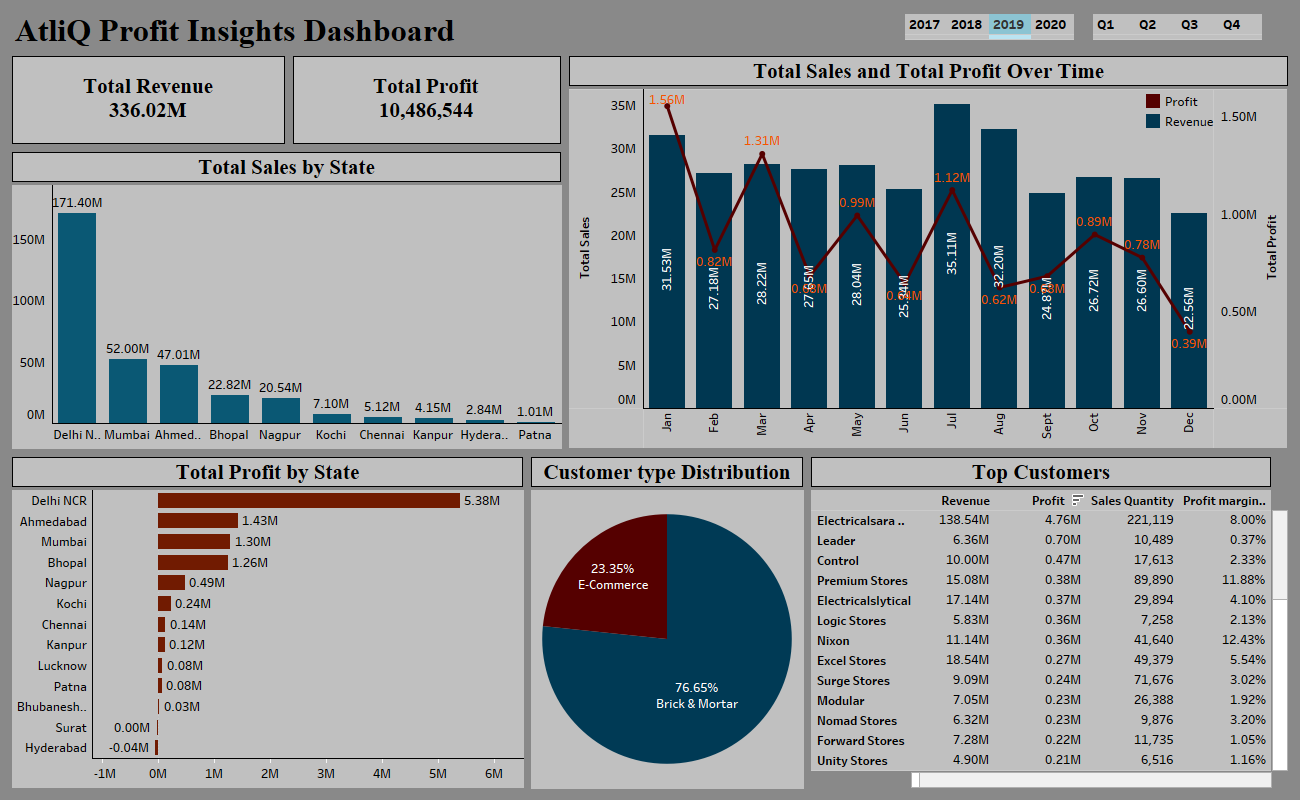

Layout of this report page (visuals, bound fields, positions):
{"tool":"tableau","page":{"name":"Profit Dashboard","canvas":[1300,800],"ordinal":0},"visuals":[{"type":"title","box":[8,8,1284,44]},{"type":"worksheet","title":"Year","mark":"Automatic","cols":["cy_date"],"box":[905,14,176,27]},{"type":"worksheet","title":"Quarter","mark":"Automatic","cols":["cy_date"],"box":[1093,14,184,26]},{"type":"worksheet","title":"Revenue","mark":"Automatic","box":[8,52,281,96]},{"type":"worksheet","title":"Total Profit","mark":"Automatic","box":[289,52,276.5,96]},{"type":"worksheet","title":"Profit trend","mark":"Automatic","rows":["Calculation_562668527937150976","Profit"],"cols":["cy_date"],"box":[565.5,52,726.5,401]},{"type":"legend","title":"Profit trend","param":"[federated.1usb6vg0d8i5og1fec2un0yyto2e].[:Measure Names]","box":[1143,91,140,40]},{"type":"worksheet","title":"Revenue by market","mark":"Bar","rows":["Calculation_562668527937150976"],"cols":["markets_name"],"box":[8,148,557.5,305]},{"type":"worksheet","title":"Profit by market","mark":"Automatic","rows":["markets_name"],"cols":["Profit"],"box":[8,453,518.6,339]},{"type":"worksheet","title":"Customer type","mark":"Pie","box":[526.6,453,279.9,339]},{"type":"worksheet","title":"Customer table","mark":"Automatic","rows":["custmer_name"],"box":[806.5,453,485.5,339]}]}

Visuals, with their boxes in screenshot pixels (x1, y1, x2, y2), scaled from the page's 1300x800 canvas onto the 1300x800 screenshot:
title: 8, 8, 1292, 52
"Year" worksheet: 905, 14, 1081, 41
"Quarter" worksheet: 1093, 14, 1277, 40
"Revenue" worksheet: 8, 52, 289, 148
"Total Profit" worksheet: 289, 52, 566, 148
"Profit trend" worksheet: 566, 52, 1292, 453
"Profit trend" legend: 1143, 91, 1283, 131
"Revenue by market" worksheet (Bar marks): 8, 148, 566, 453
"Profit by market" worksheet: 8, 453, 527, 792
"Customer type" worksheet (Pie marks): 527, 453, 806, 792
"Customer table" worksheet: 806, 453, 1292, 792
